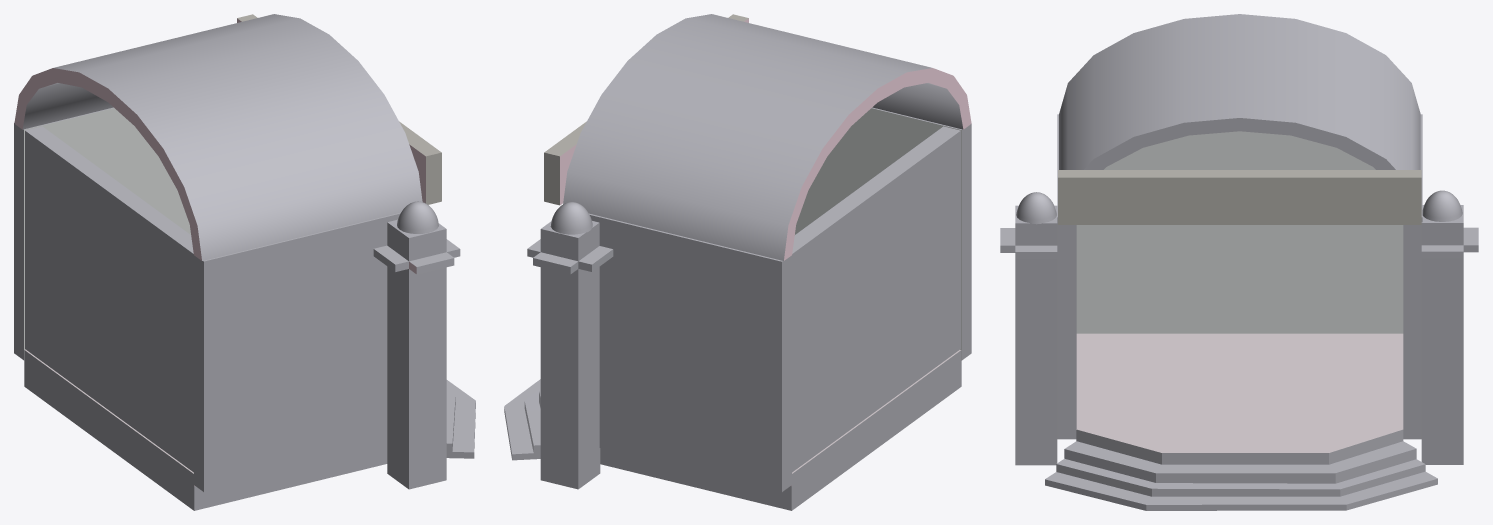
Rendered from Teatro.fbx.
The picture shows the model from 3 angles, left to right: view 1: azimuth 30°, elevation 25°; view 2: azimuth 150°, elevation 25°; view 3: azimuth 270°, elevation 25°; orthographic projection. The views are drawn at different scales.
Parts seen in each view (by area): view 1: pCube1; view 2: pCube1; view 3: pCube1.
Boxes of the visible parts, x1,y1,x2,y2 form: pCube1: (14,14,475,510); pCube1: (504,14,971,510); pCube1: (1000,14,1478,510).
Bounding box in the file's own units: 62.42 × 67.42 × 84.21.
